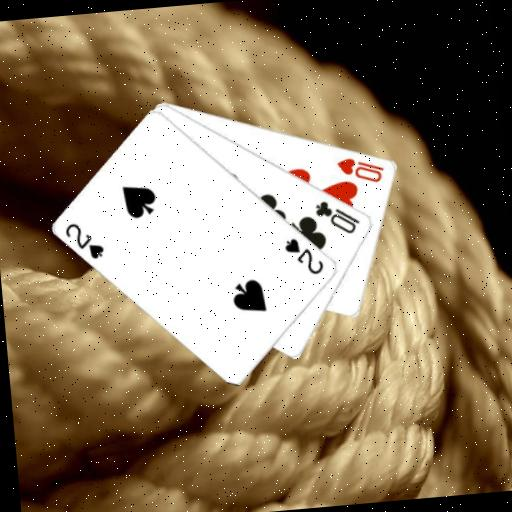10C: (312, 195, 363, 239)
10H: (334, 152, 387, 188)
2S: (281, 233, 327, 279), (62, 218, 108, 264)
